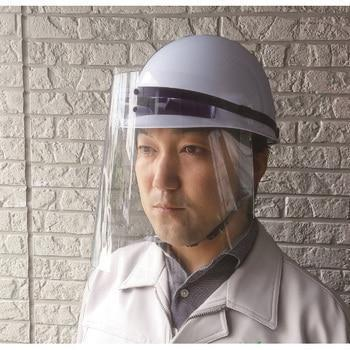helmet: (115, 34, 280, 144)
